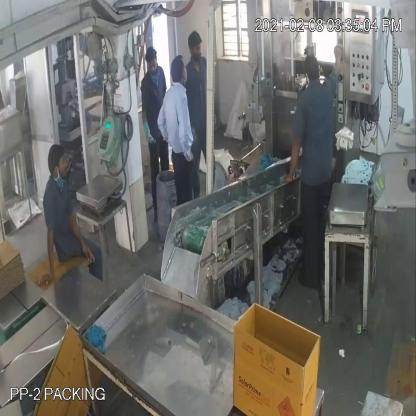glove: (137, 100, 156, 151)
no_glove: (64, 192, 103, 270), (33, 213, 61, 293), (173, 89, 196, 180), (280, 123, 306, 193), (327, 36, 348, 95)
